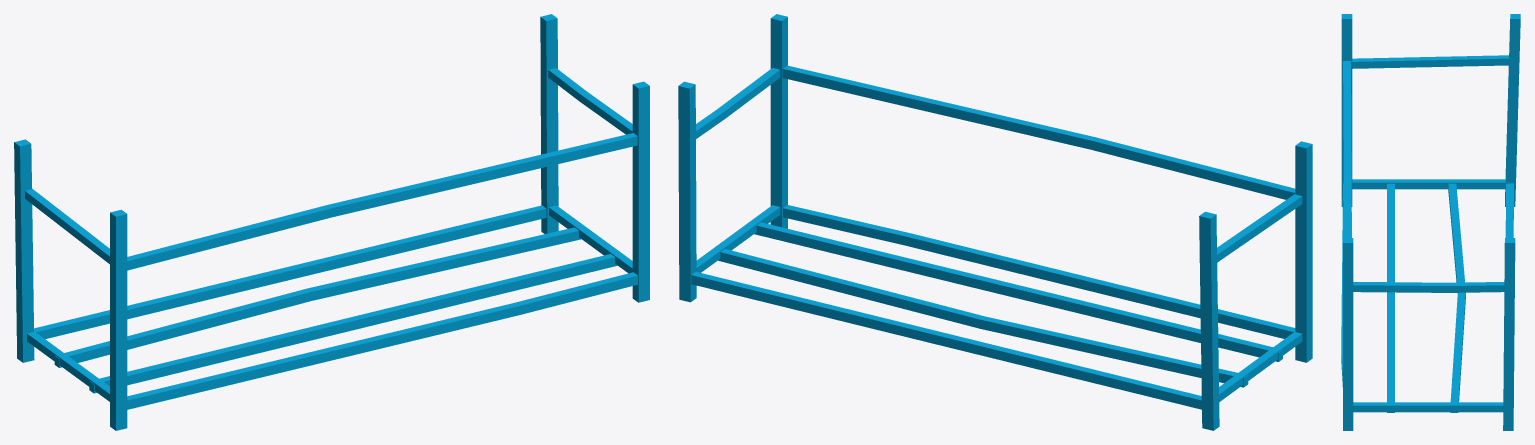
File: Gas_Cylinder_Shelf_02_Lod0.fbx
3 views of the same model, side by side, from view 1: azimuth 30°, elevation 25°; view 2: azimuth 150°, elevation 25°; view 3: azimuth 270°, elevation 25° (orthographic). The views are drawn at different scales.
Parts seen in each view (by area): view 1: Gas_Cylinder_Shelf_02_Lod0; view 2: Gas_Cylinder_Shelf_02_Lod0; view 3: Gas_Cylinder_Shelf_02_Lod0.
Part boxes in pixels (<box>): Gas_Cylinder_Shelf_02_Lod0: <box>14,14,649,430</box>; Gas_Cylinder_Shelf_02_Lod0: <box>678,14,1312,430</box>; Gas_Cylinder_Shelf_02_Lod0: <box>1341,14,1520,430</box>.
Size of the model in its own units: 156 by 59.79 by 51.74.
